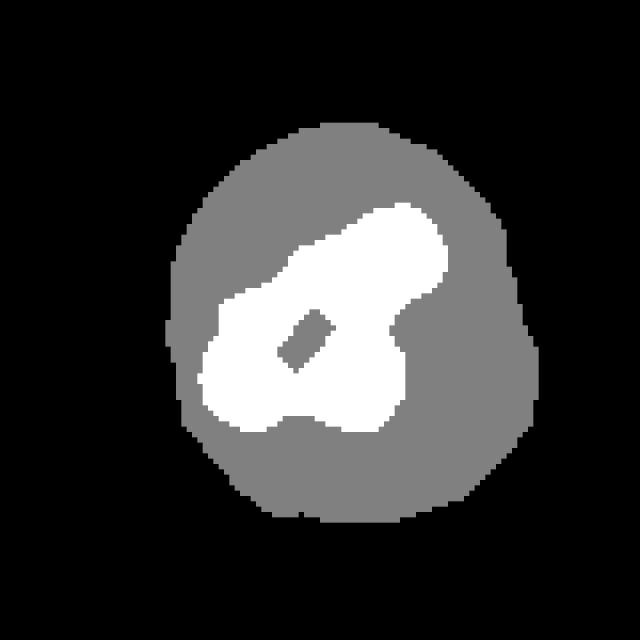WBC: (149, 112, 555, 544)
